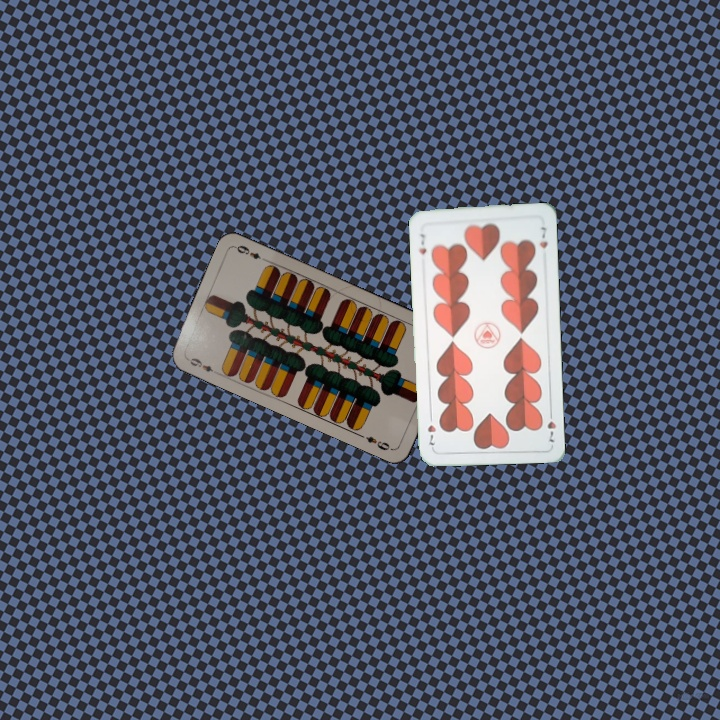E9: (183, 354, 221, 377)
H7: (543, 406, 558, 445), (415, 230, 429, 257)
